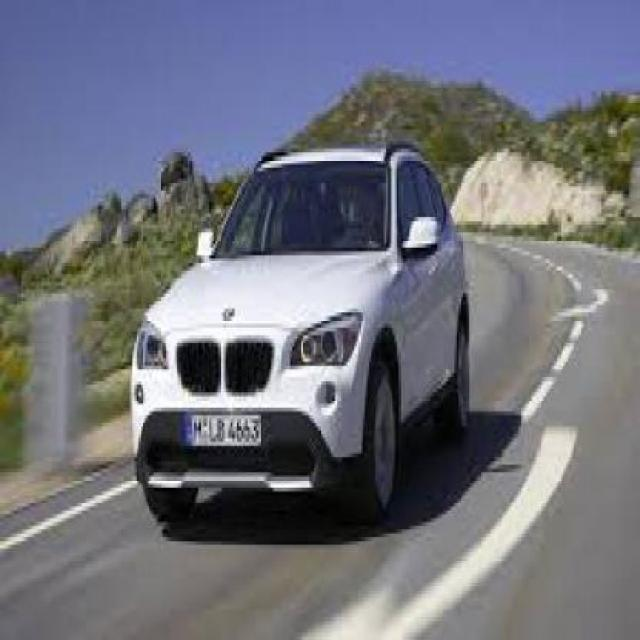vehicle: (122, 90, 490, 546)
